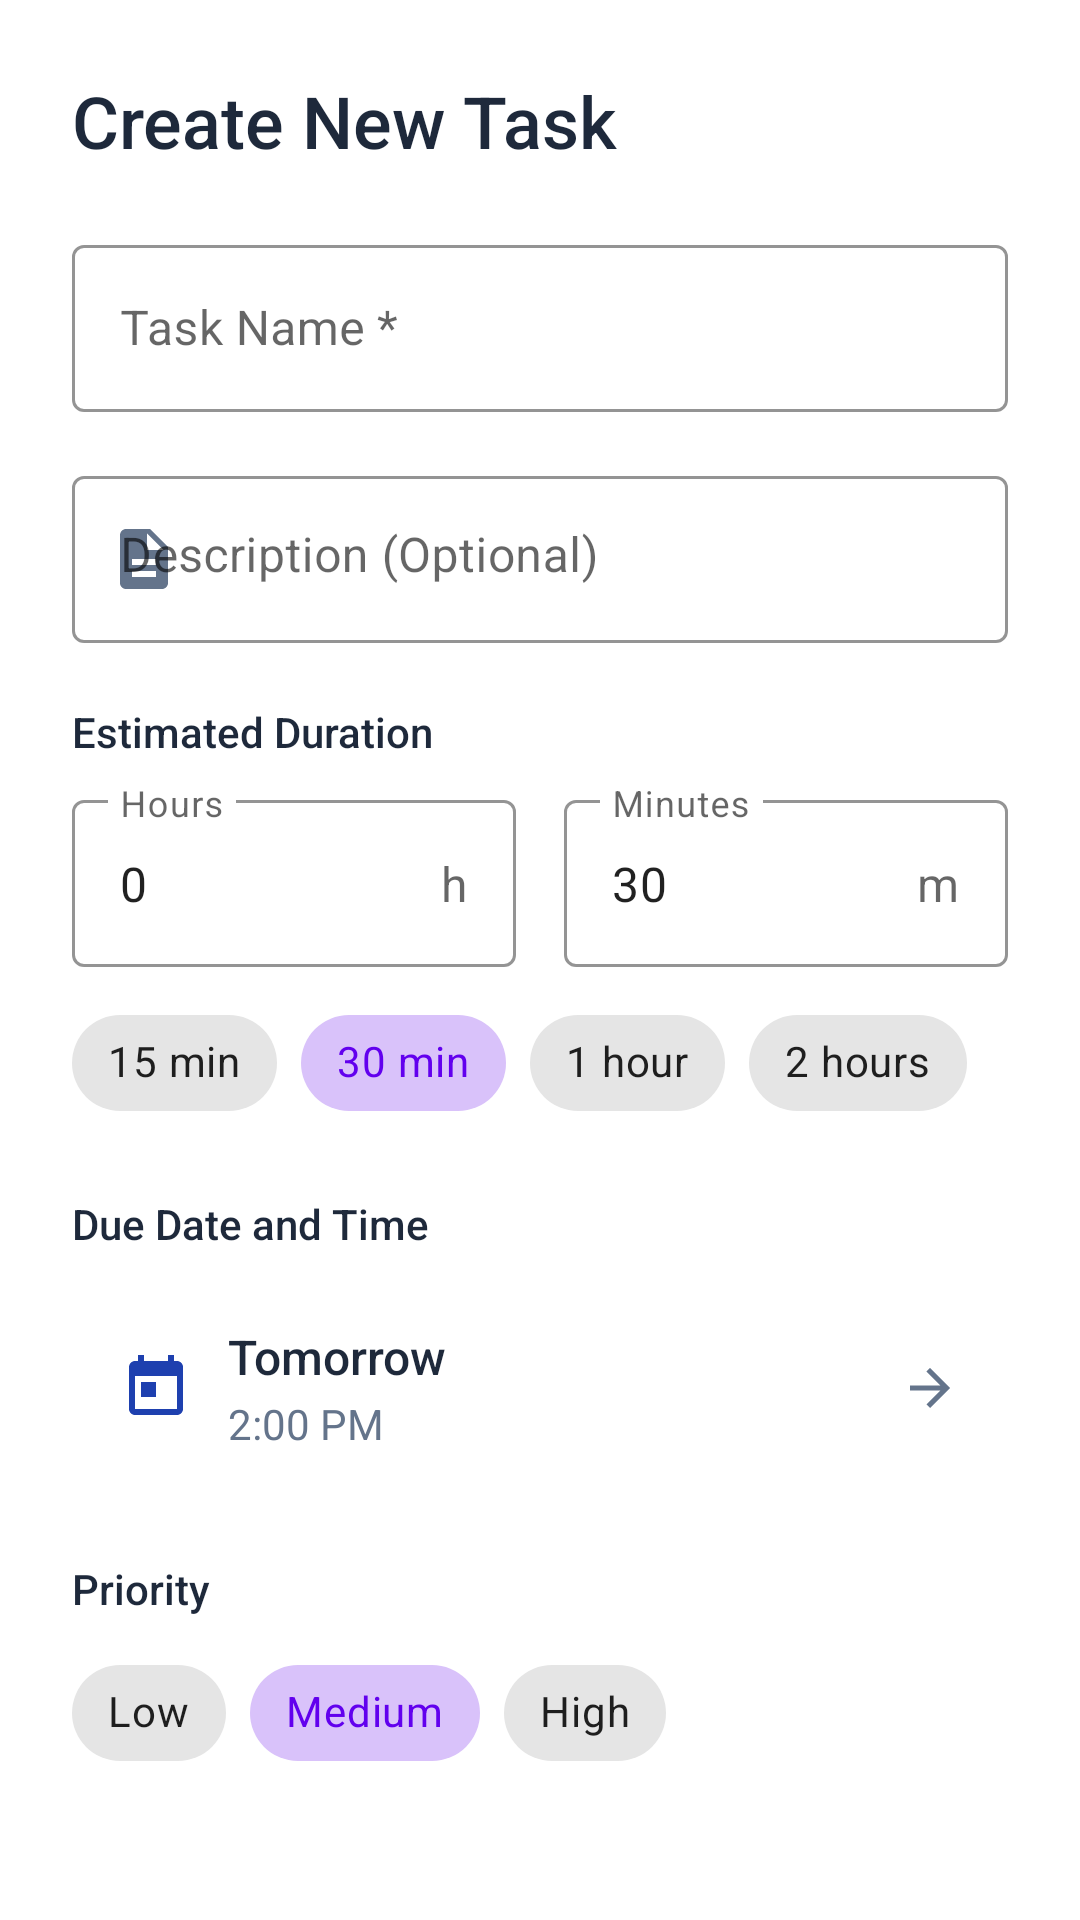

Point at icon controls on the screen. Image size 1080w x 1920h, points as (x=x, y=y).
arrow forward: (x=930, y=1388)
calendar: (x=156, y=1385)
